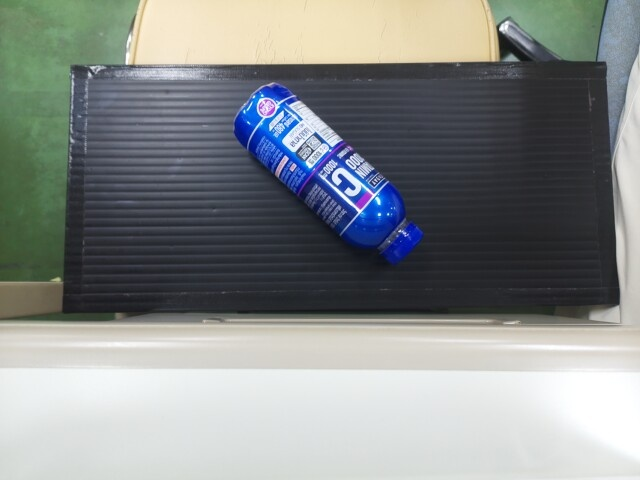plastic_bottle: (227, 84, 421, 265)
